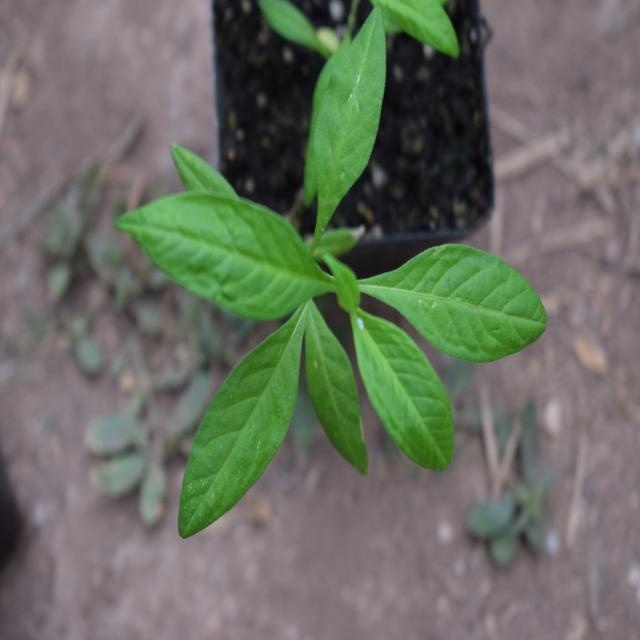white_smart_weed: (126, 47, 548, 524)
